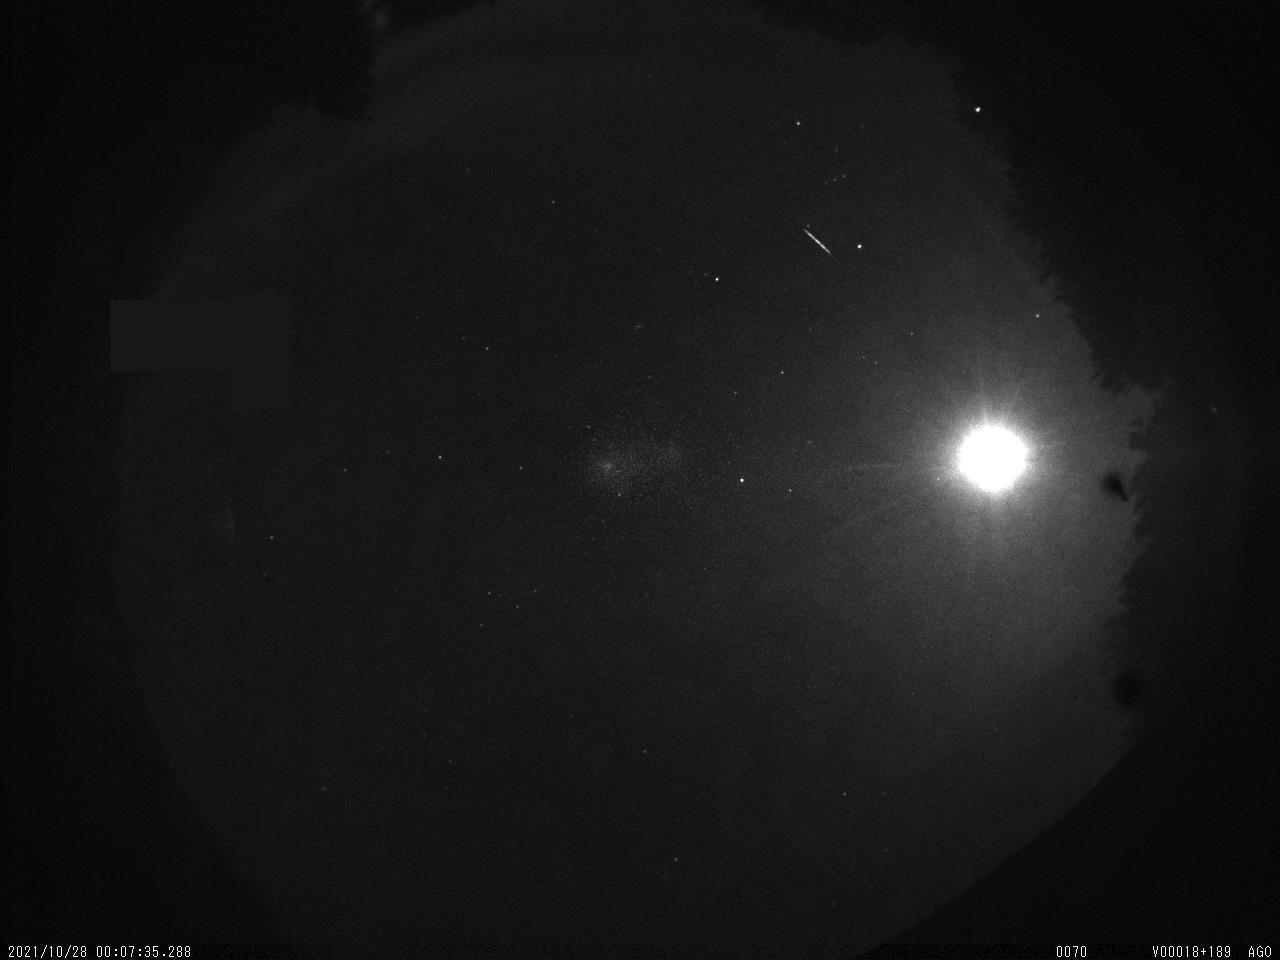meteor: (801, 227, 837, 259)
